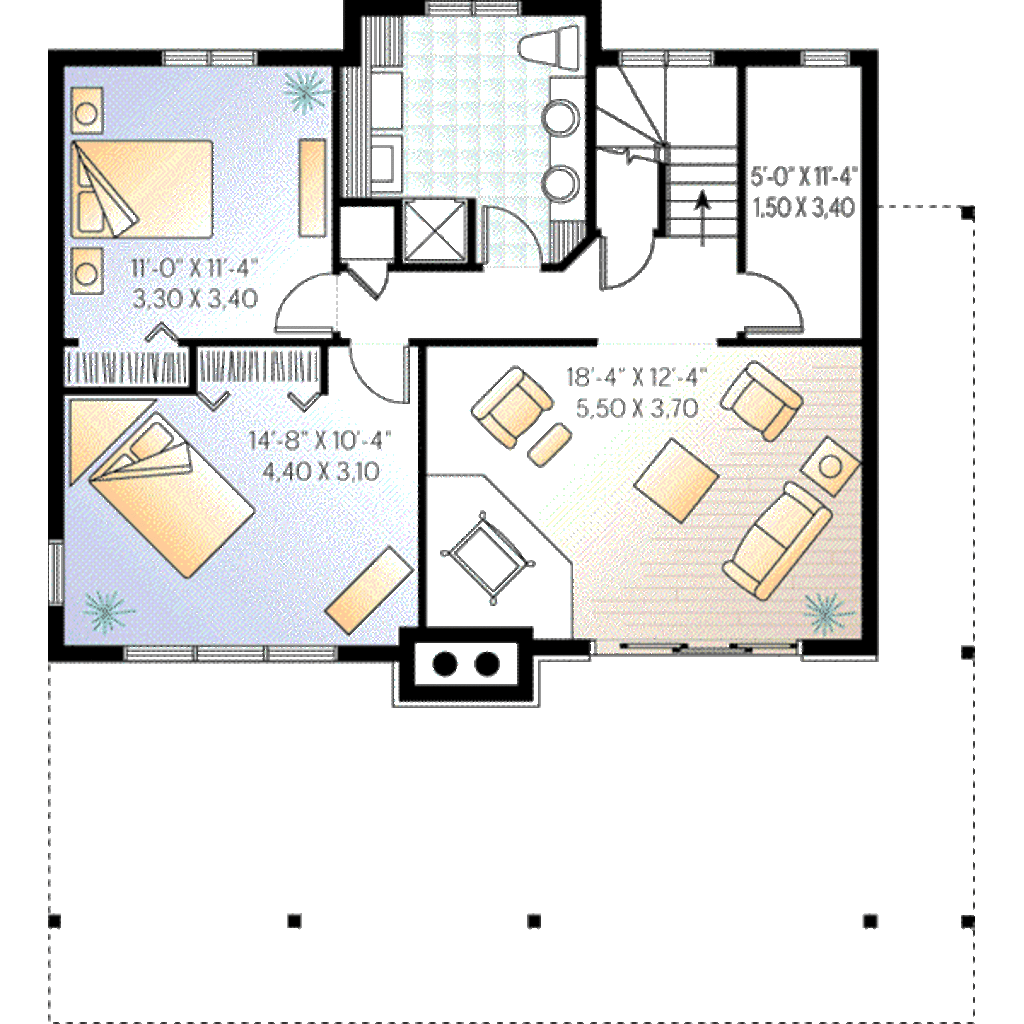bed: (76, 415, 266, 584), (63, 141, 239, 243)
door: (255, 268, 352, 329), (734, 265, 807, 334), (344, 343, 415, 408), (471, 194, 532, 259), (596, 237, 659, 297), (337, 257, 398, 305)
large_sink: (494, 19, 590, 75)
large_sofa: (709, 475, 831, 603)
small_sink: (548, 83, 594, 213)
small_sofa: (461, 356, 564, 451), (710, 356, 804, 451)
stair: (593, 62, 742, 245)
window: (150, 48, 261, 73), (131, 648, 334, 660), (45, 530, 72, 613), (426, 1, 529, 19), (794, 46, 856, 67)
